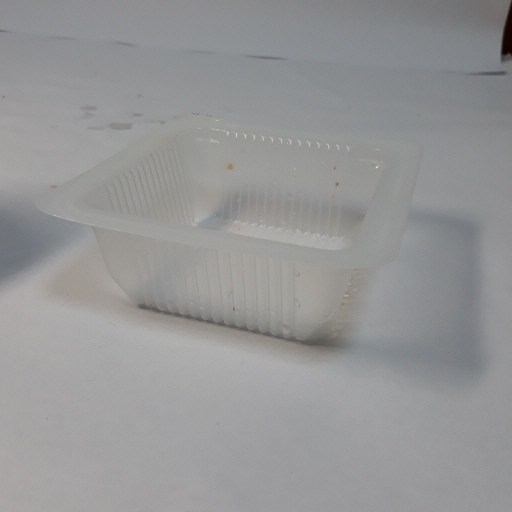Plastic_4: (37, 111, 423, 343)
